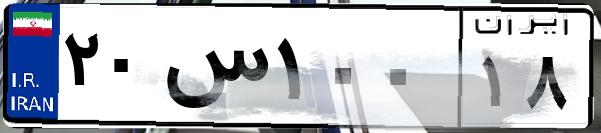0: (385, 28, 445, 110), (330, 28, 385, 110), (110, 28, 158, 98)
1: (270, 28, 330, 110), (475, 38, 525, 113)
2: (57, 26, 110, 100)
8: (525, 38, 570, 115)
س: (158, 20, 270, 120)
